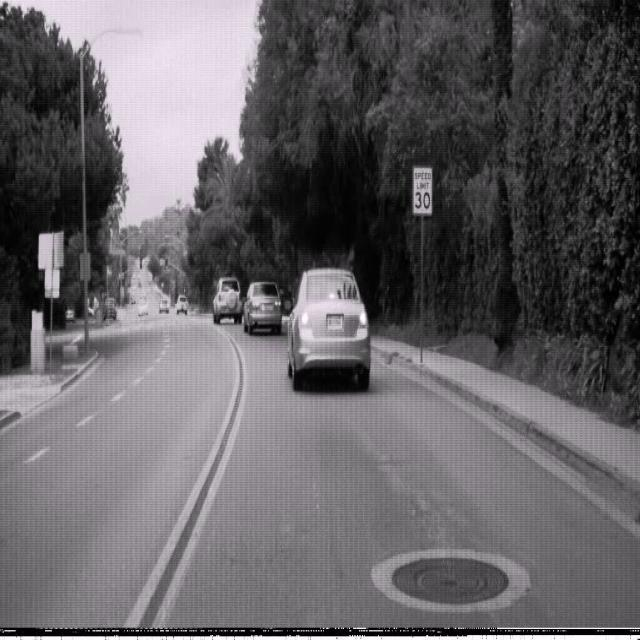speedLimit30: (412, 166, 432, 214)
